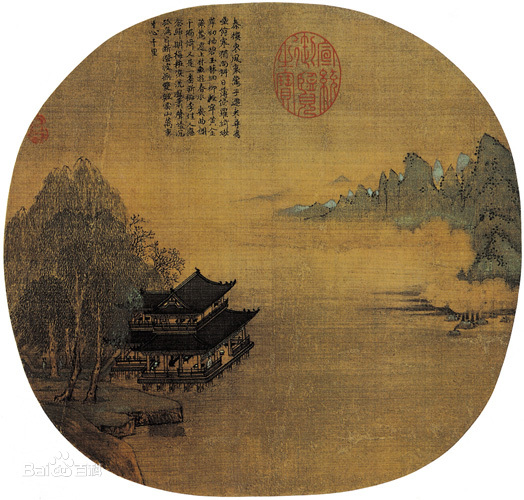house: (112, 272, 260, 394)
range: (278, 137, 516, 236)
river: (246, 238, 425, 459)
tree: (19, 176, 113, 405)
